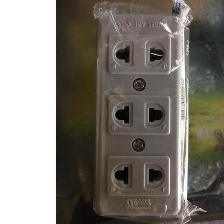three_eye_plug: (89, 3, 193, 224)
